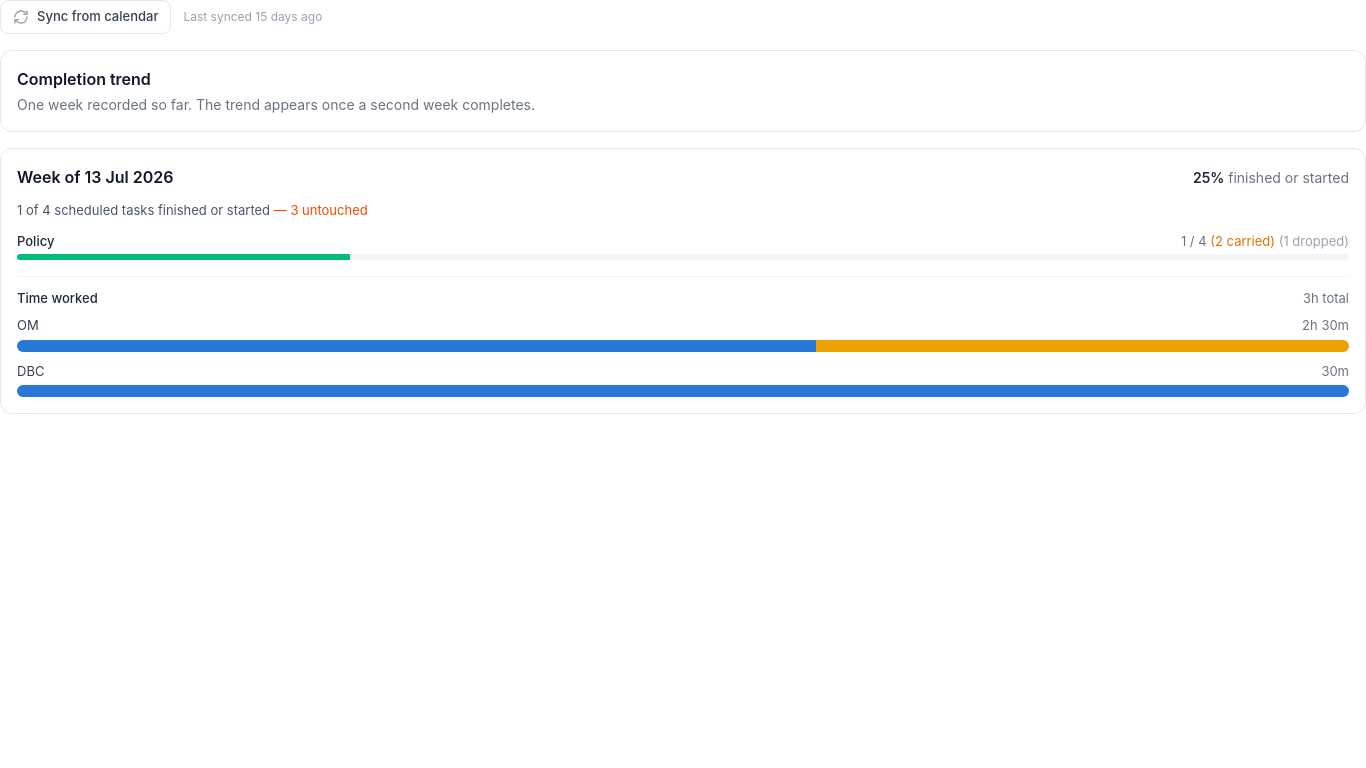
AnalysisView › drill-down › lists only the events for the clicked workspace and category
This screenshot has width=1366, height=768.
Click the button named "OM, Meetings: 1h 30m, 60 per cent".
click(417, 346)  # box x1=17 y1=340 x2=816 y2=352
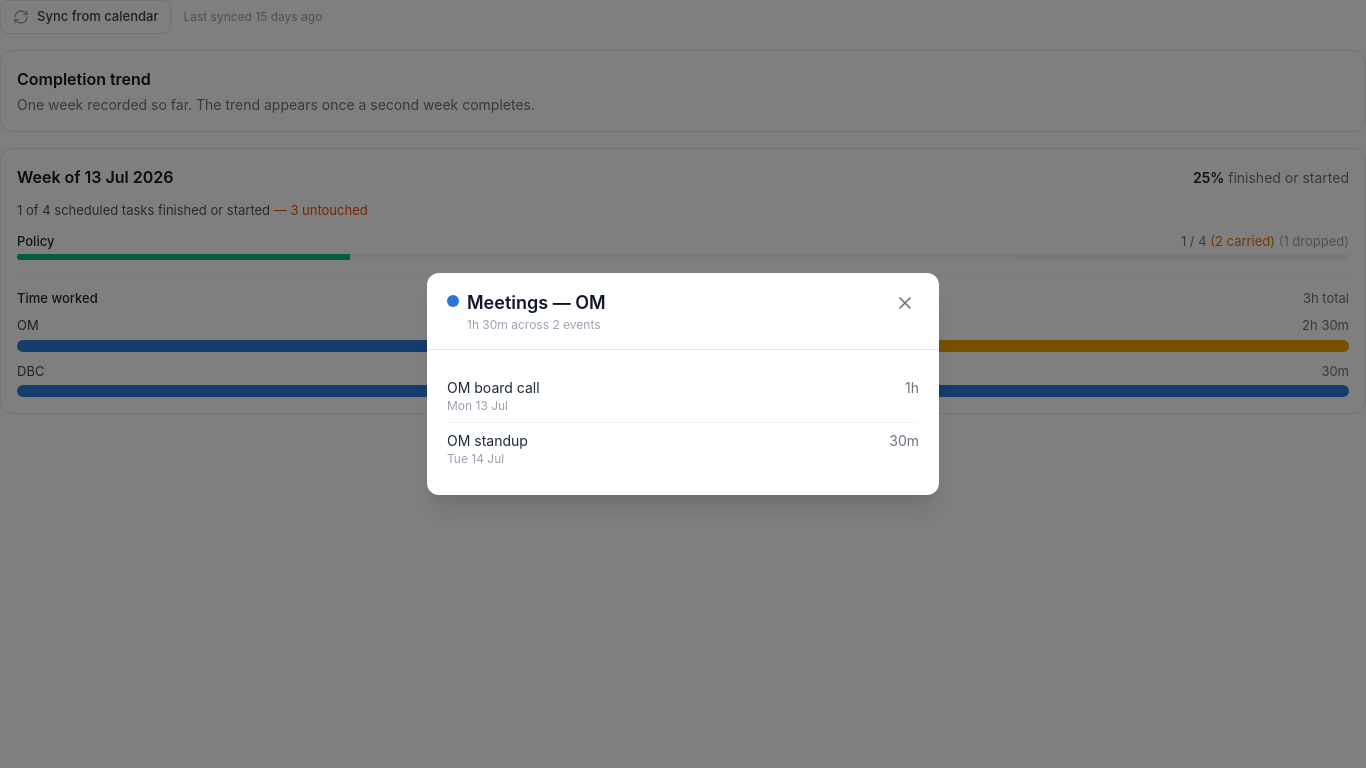
Result: the heading "Meetings — OM" is shown at x1=467 y1=289 x2=606 y2=317
Result: the text "OM board call" is shown at x1=447 y1=378 x2=540 y2=398
Result: the text "OM standup" is shown at x1=447 y1=431 x2=528 y2=451
